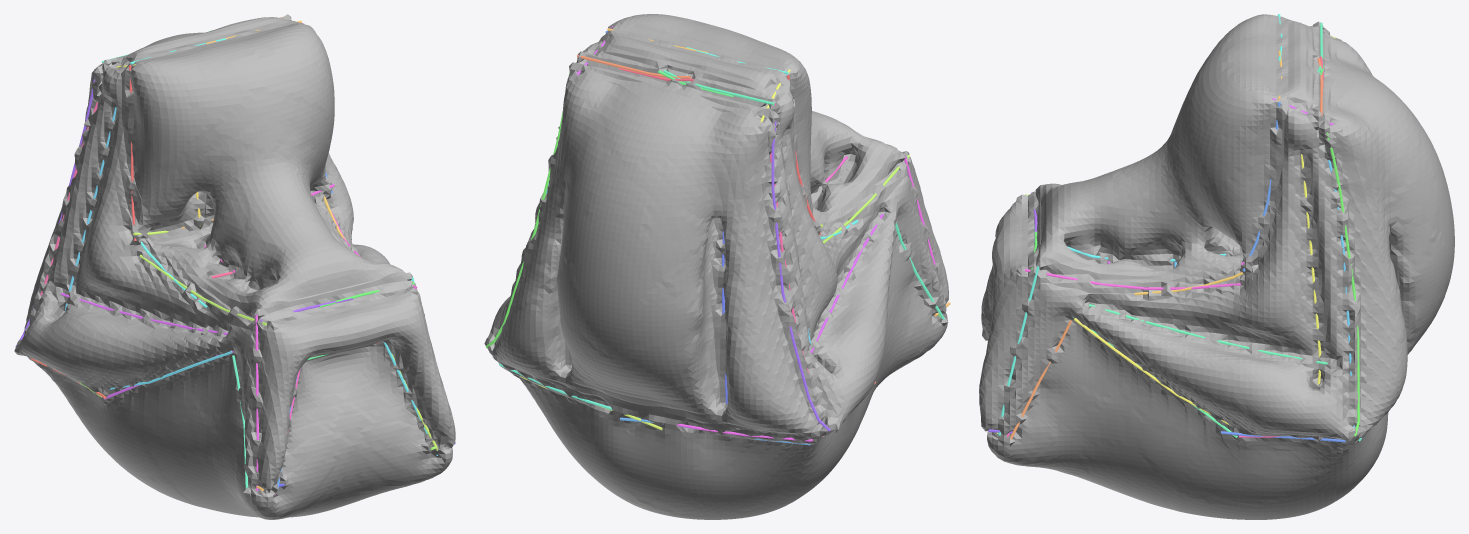
File: author1_chair_ff.gltf
The picture shows the model from 3 angles, left to right: view 1: azimuth 30°, elevation 25°; view 2: azimuth 150°, elevation 25°; view 3: azimuth 270°, elevation 25°; orthographic projection. The views are drawn at different scales.
Bounding box in the file's own units: 0.5941 × 0.7089 × 0.7142.
